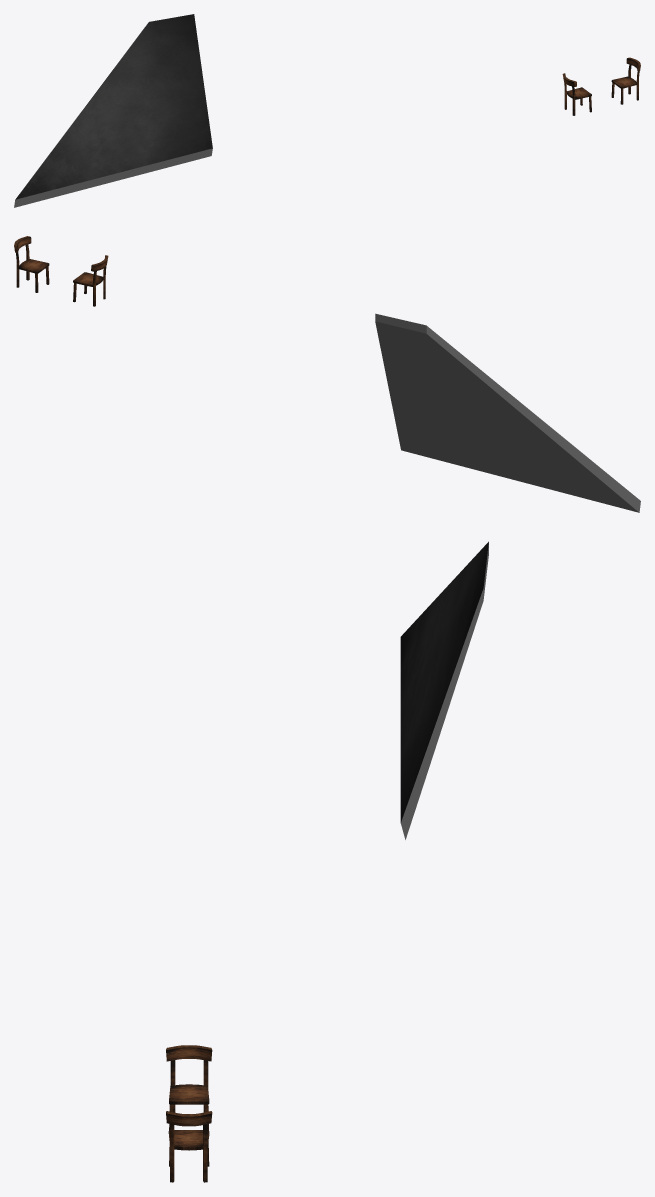
Rendered from SillaDeEscritorio.obj.
3 renders of one model, top to bottom at view 1: azimuth 30°, elevation 25°; view 2: azimuth 150°, elevation 25°; view 3: azimuth 270°, elevation 25°, orthographic. The views are drawn at different scales.
Visible parts, largest first — view 1: pCube160, seat_seat_auvpolySurface13, seat_seat_auvpolySurface12; view 2: pCube160, seat_seat_auvpolySurface13, seat_seat_auvpolySurface12; view 3: pCube160, seat_seat_auvpolySurface12, seat_seat_auvpolySurface13.
Boxes of the visible parts, bbox=[...] form: pCube160: bbox=[14, 14, 212, 207]; seat_seat_auvpolySurface13: bbox=[611, 57, 640, 104]; seat_seat_auvpolySurface12: bbox=[562, 73, 591, 115]; pCube160: bbox=[375, 313, 640, 512]; seat_seat_auvpolySurface13: bbox=[14, 236, 49, 292]; seat_seat_auvpolySurface12: bbox=[73, 255, 108, 306]; pCube160: bbox=[400, 541, 488, 839]; seat_seat_auvpolySurface12: bbox=[166, 1045, 212, 1130]; seat_seat_auvpolySurface13: bbox=[166, 1111, 212, 1182].
Size of the model in its own units: 13.88 by 3.09 by 3.4.
3 materials, 2 textured.
